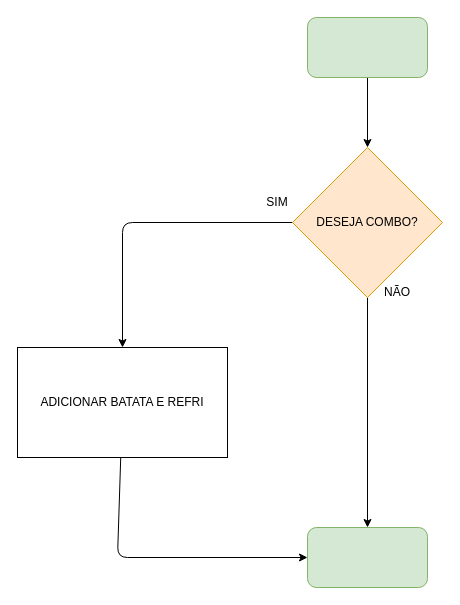
Image size: 460x605. Some labels were removed from this diagram. Each missing label, with the centre of its shape:
"FIM" belongs at pixel 367 557.
"INÍCIO" belongs at pixel 367 47.
